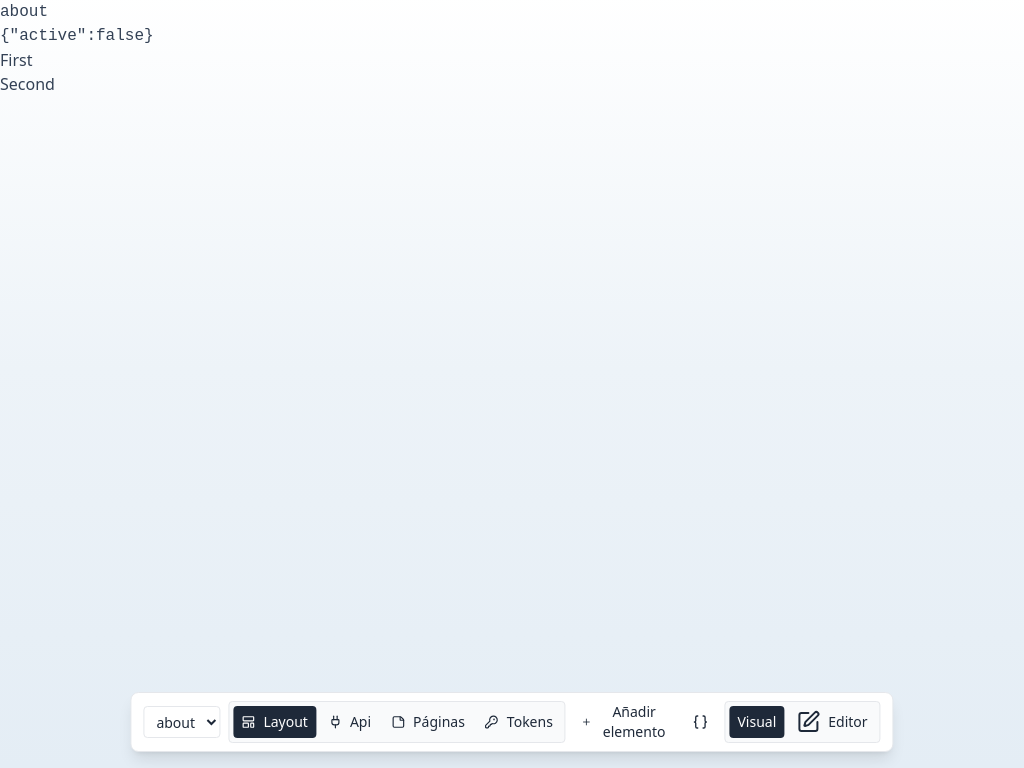
Test: DevEditorLayer / FloatingNodePalette visibility › toggles paletteOpen when clicking "Añadir elemento" on the toolbar
Click the button with test id "dev-editor-toolbar-palette-toggle" at (625, 722), box [574, 706, 676, 738]
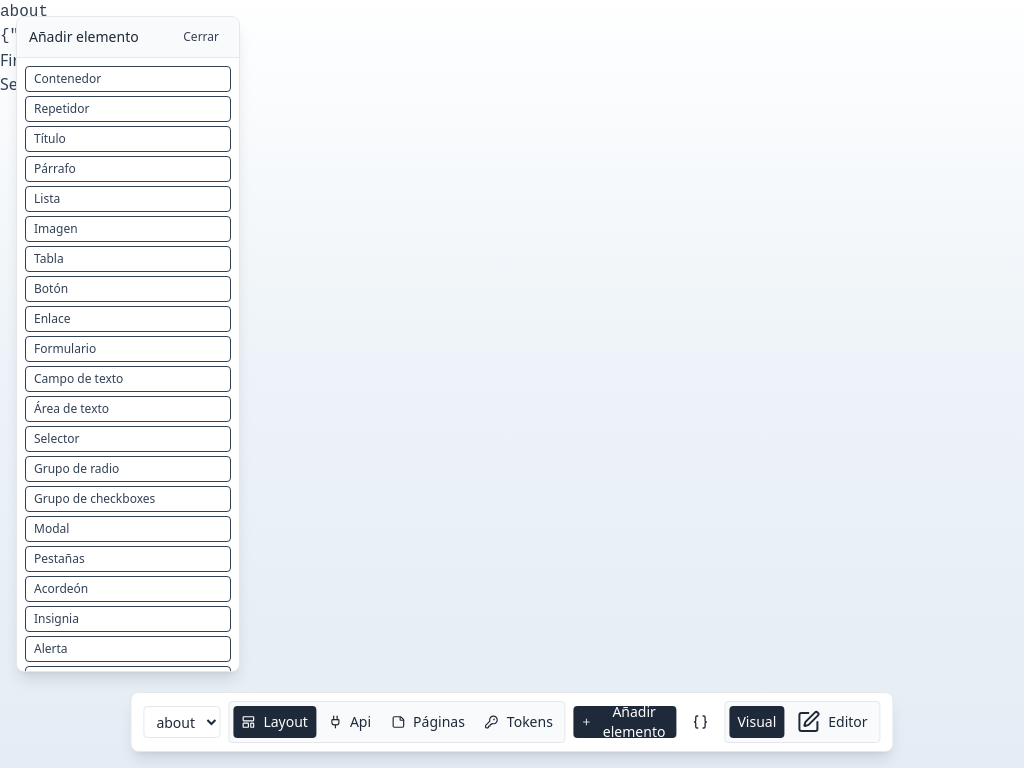
Expected: the dialog with test id "dev-editor-floating-palette" is shown, [16, 16, 240, 672]
Click the button with test id "dev-editor-toolbar-palette-toggle" at (625, 722), box [574, 706, 676, 738]
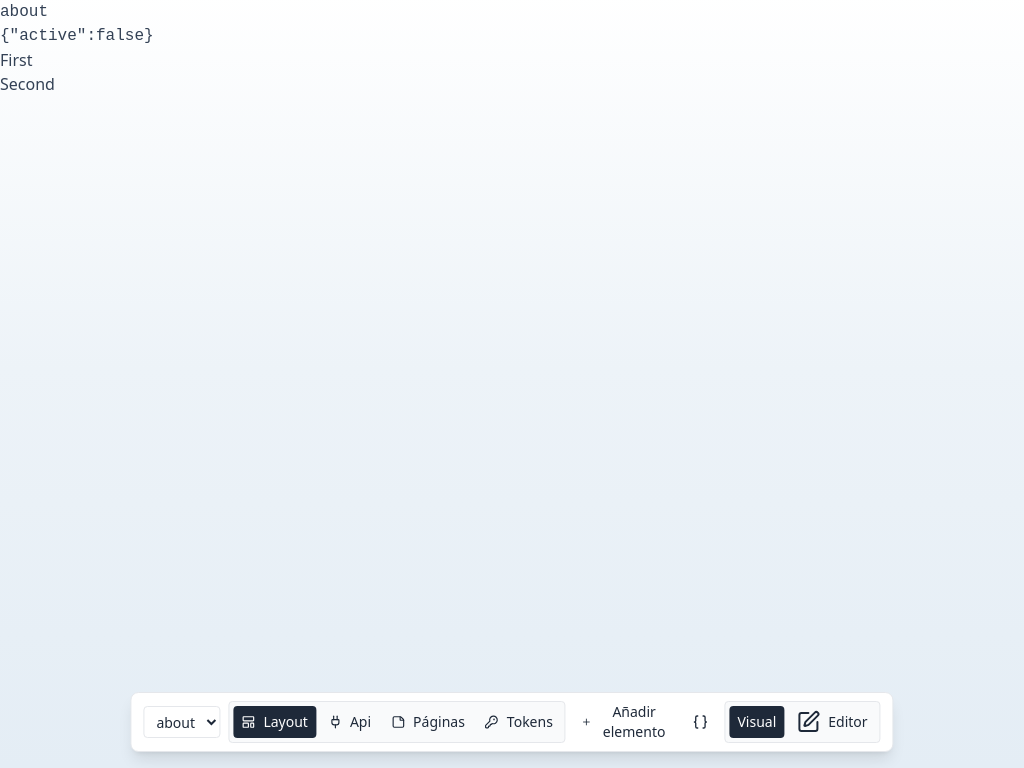
Expected: the dialog with test id "dev-editor-floating-palette" is gone
